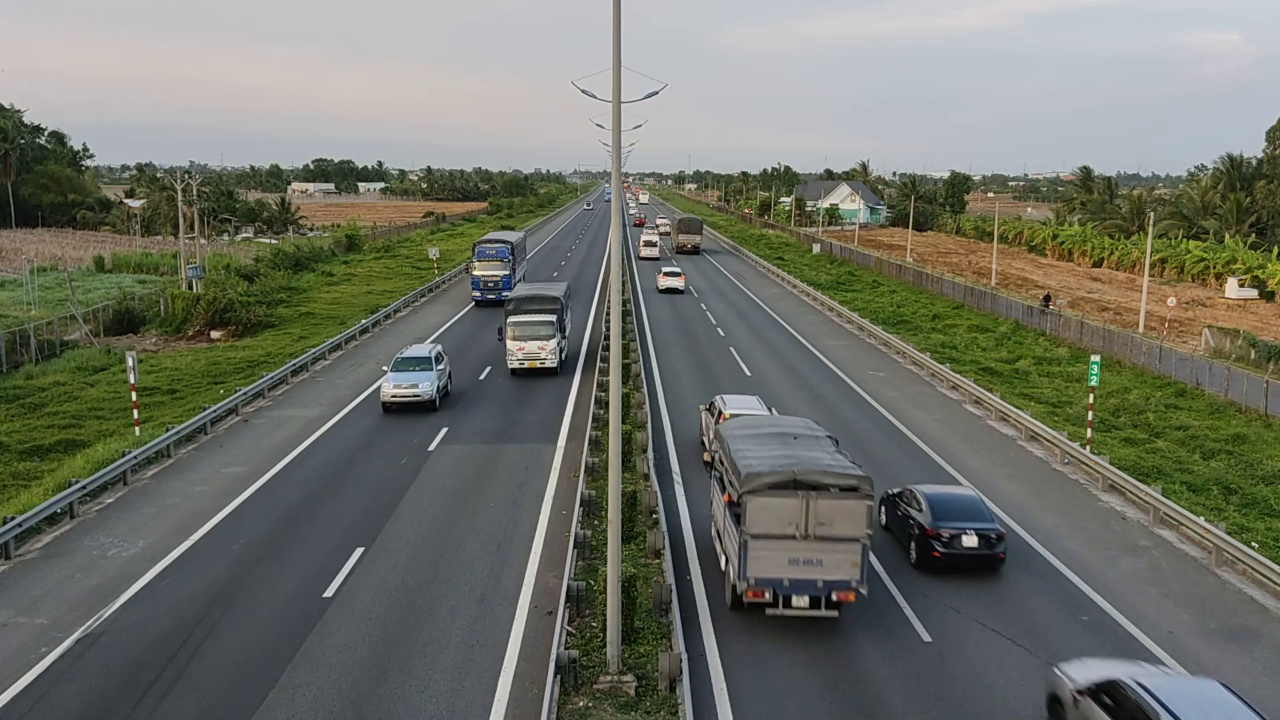car: (1044, 655, 1268, 719), (877, 483, 1008, 571), (379, 341, 453, 413), (655, 266, 686, 293)
truck: (699, 411, 877, 620), (500, 279, 572, 377), (469, 228, 527, 305), (673, 215, 705, 254)
